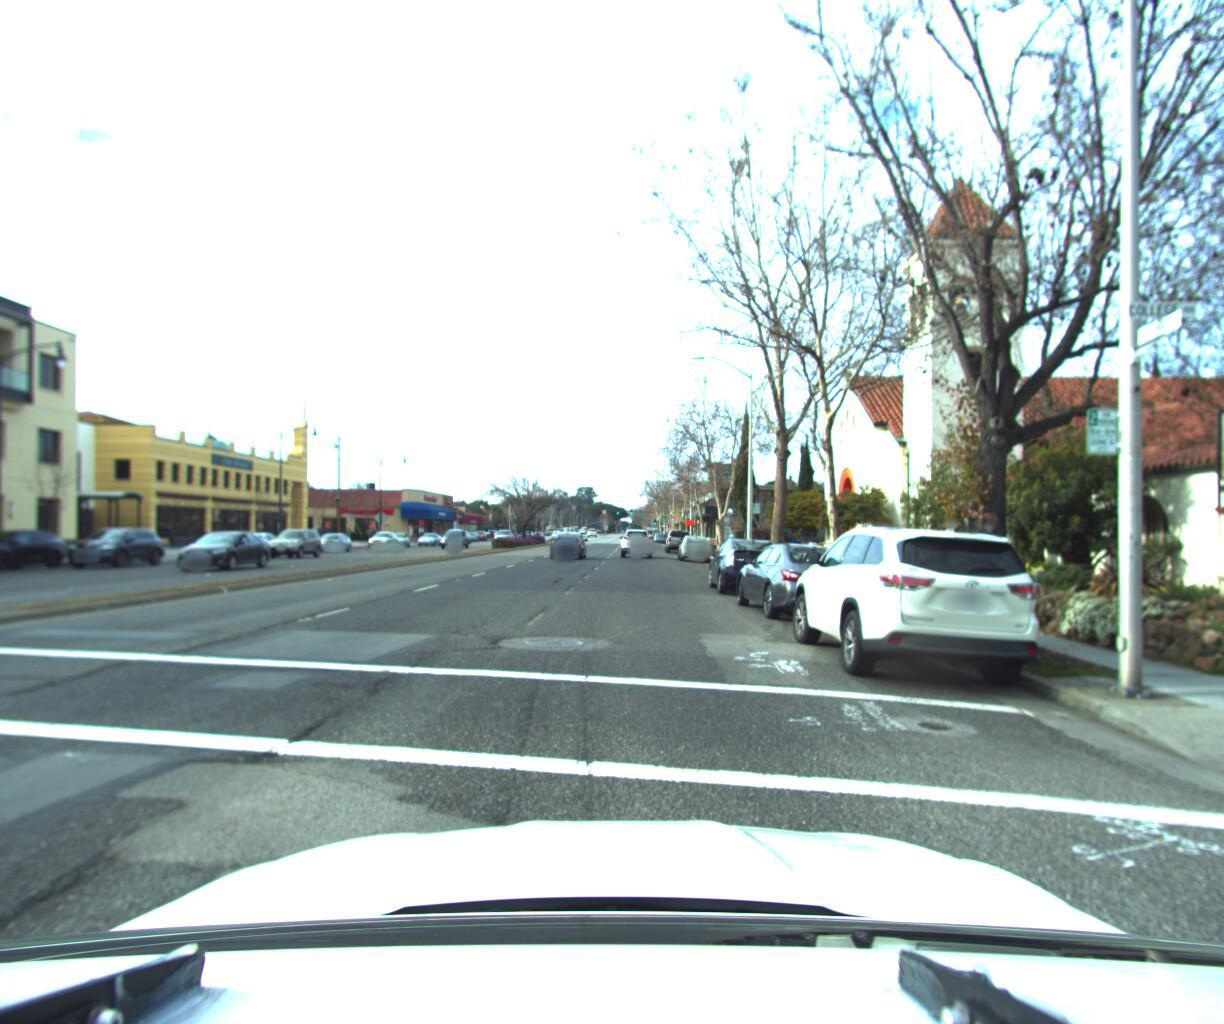car: (783, 520, 1062, 694), (729, 537, 885, 628), (706, 534, 800, 596), (171, 532, 278, 573), (65, 531, 170, 568), (265, 529, 325, 558), (548, 532, 587, 560), (678, 532, 713, 561), (621, 526, 652, 555), (312, 532, 354, 552), (665, 525, 694, 551), (441, 527, 471, 547), (365, 530, 397, 548), (386, 530, 418, 547)
